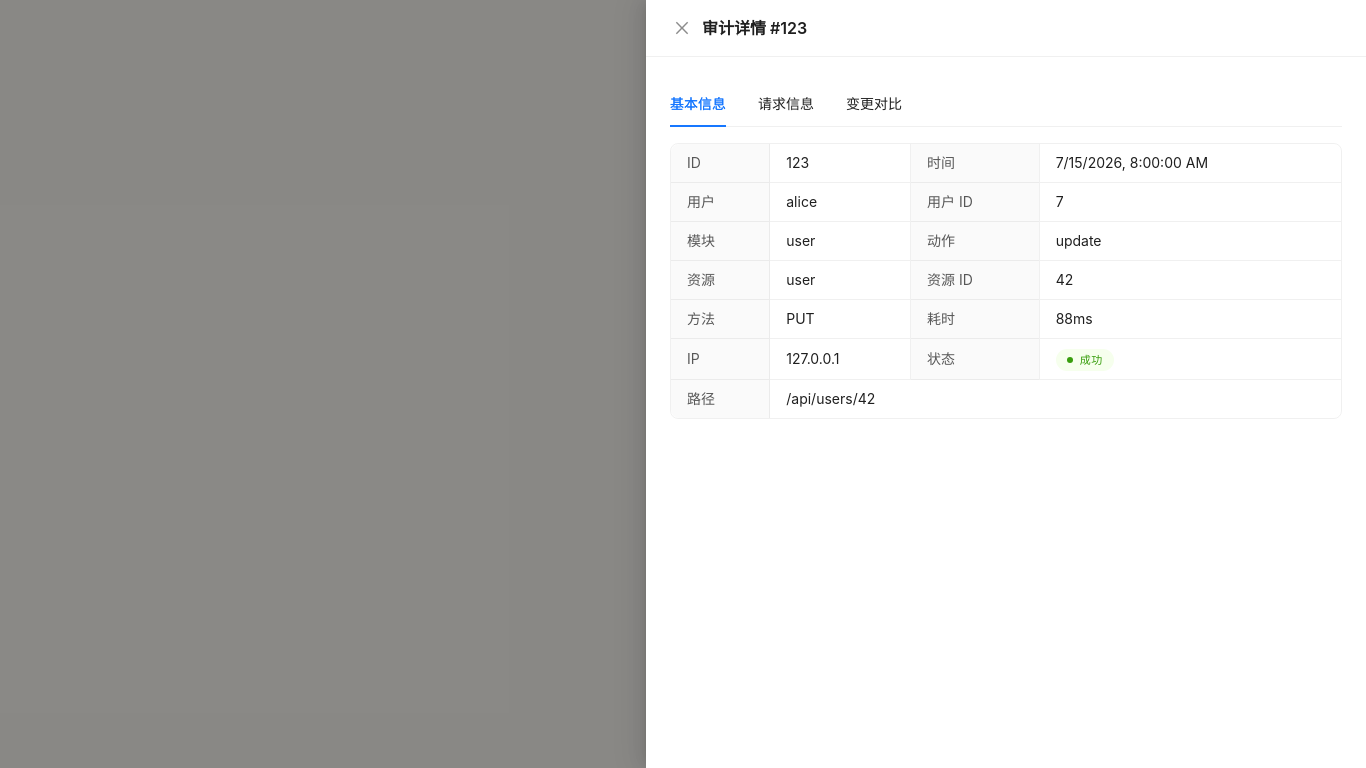
<AuditLogDetailDrawer /> › switches to request tab and renders params JSON
# 点 "请求信息" tab
Click the tab "请求信息".
click(786, 104)  # box [758,93,814,115]
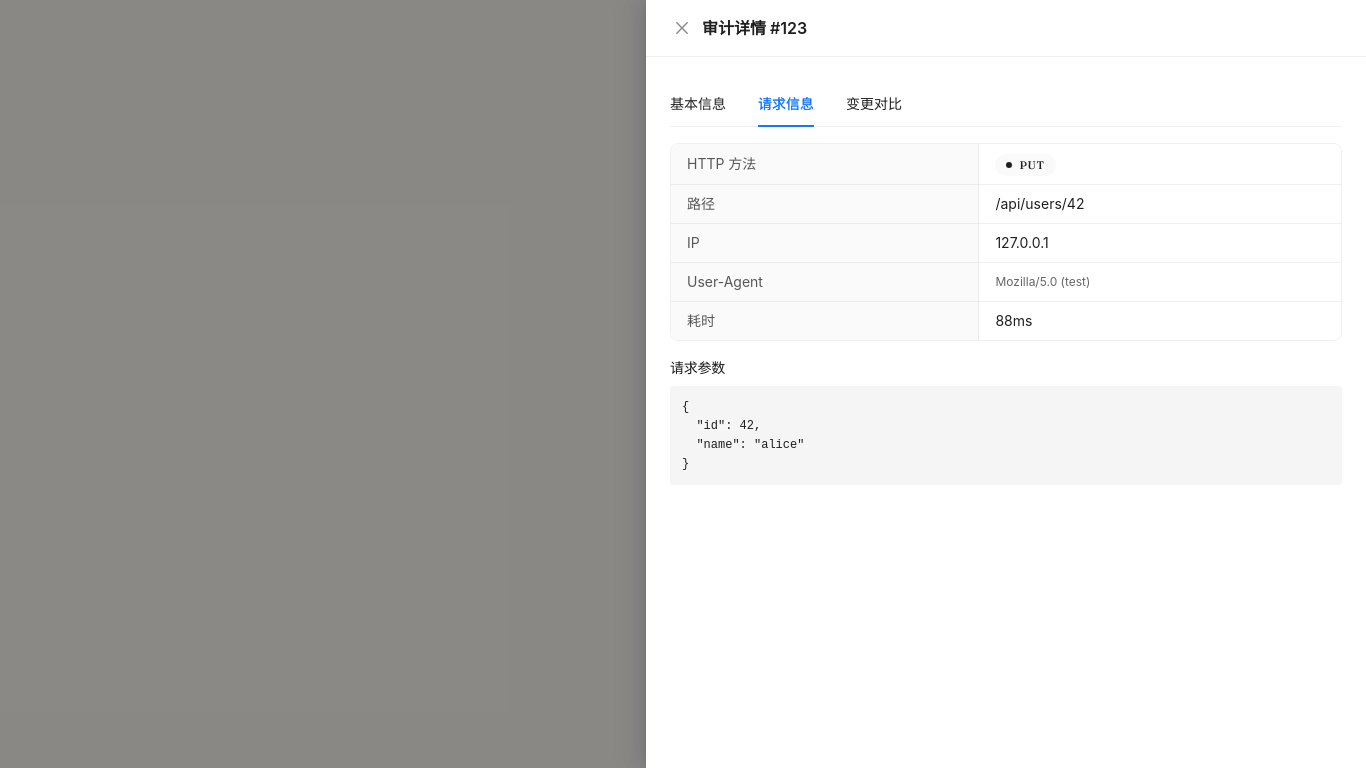
Result: the text "{ \"id\": 42, \"name\": \"alice\" }" is shown at [670,386,1342,485]
